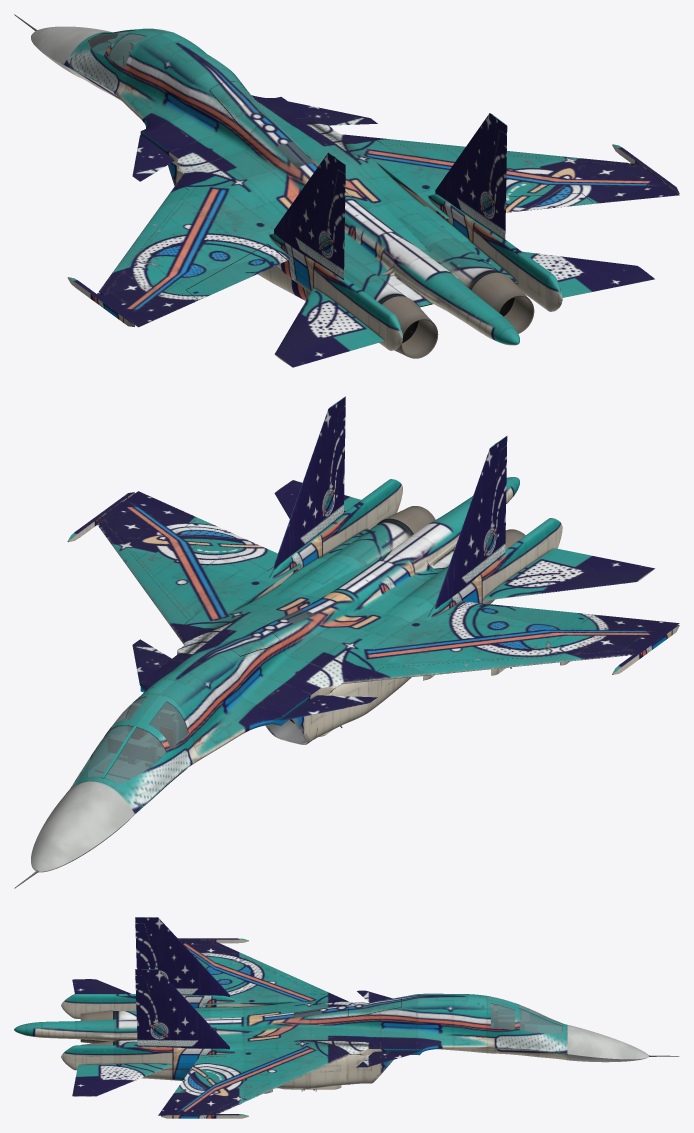
The model's file is e_su34.cosmos.glb.
The picture shows the model from 3 angles, top to bottom: view 1: azimuth 30°, elevation 25°; view 2: azimuth 150°, elevation 25°; view 3: azimuth 270°, elevation 25°; orthographic projection. The views are drawn at different scales.
Parts seen in each view (by area): view 1: body|S34_paint, body|glass; view 2: body|S34_paint, body|glass; view 3: body|S34_paint, body|glass.
Part boxes in pixels (left/top/right/bottom): body|S34_paint: left=14, top=14, right=679, bottom=367; body|glass: left=87, top=29, right=170, bottom=67; body|S34_paint: left=14, top=396, right=679, bottom=888; body|glass: left=88, top=696, right=188, bottom=784; body|S34_paint: left=14, top=917, right=679, bottom=1118; body|glass: left=491, top=996, right=562, bottom=1033.
Bounding box in the file's own units: 14.95 × 5.19 × 23.8.
2 materials, 1 textured.
